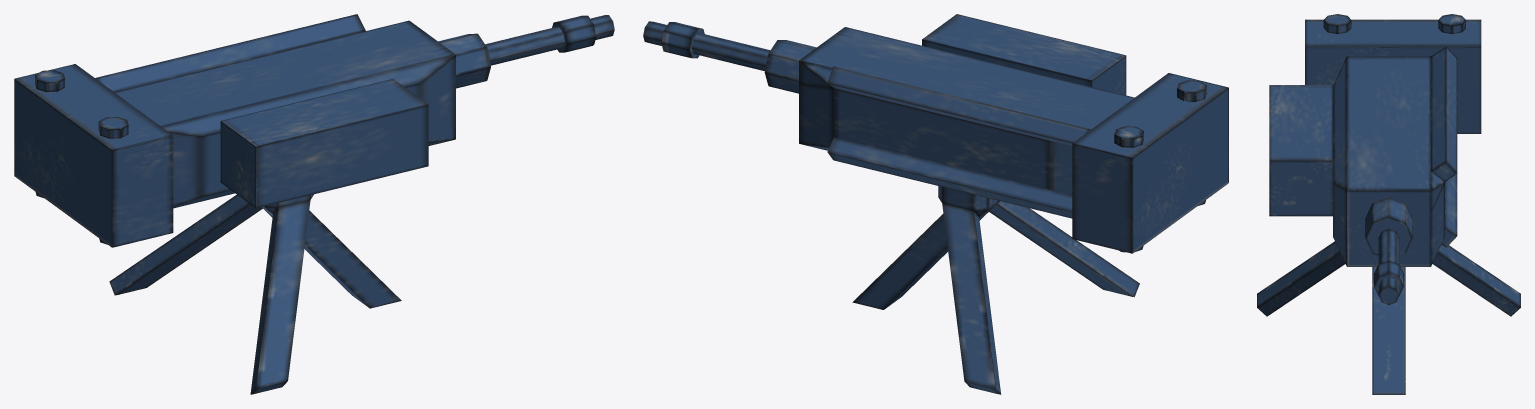
Rendered from turret_00.obj.
3 views of the same model, side by side, from view 1: azimuth 30°, elevation 25°; view 2: azimuth 150°, elevation 25°; view 3: azimuth 270°, elevation 25° (orthographic). The views are drawn at different scales.
Parts seen in each view (by area): view 1: gun, base; view 2: gun, base; view 3: gun, base.
Part boxes in pixels (x1=…): gun: x1=14, y1=14, x2=614, y2=247; base: x1=109, y1=194, x2=401, y2=394; gun: x1=643, y1=14, x2=1228, y2=253; base: x1=852, y1=186, x2=1139, y2=394; gun: x1=1269, y1=14, x2=1481, y2=304; base: x1=1257, y1=241, x2=1520, y2=394.
Bounding box in the file's own units: 63.03 × 29.58 × 29.47.
1 material, 1 textured.
